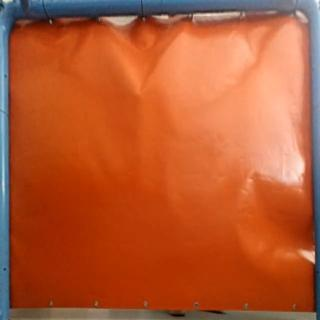Hit-hRxx: (130, 88, 150, 104)
